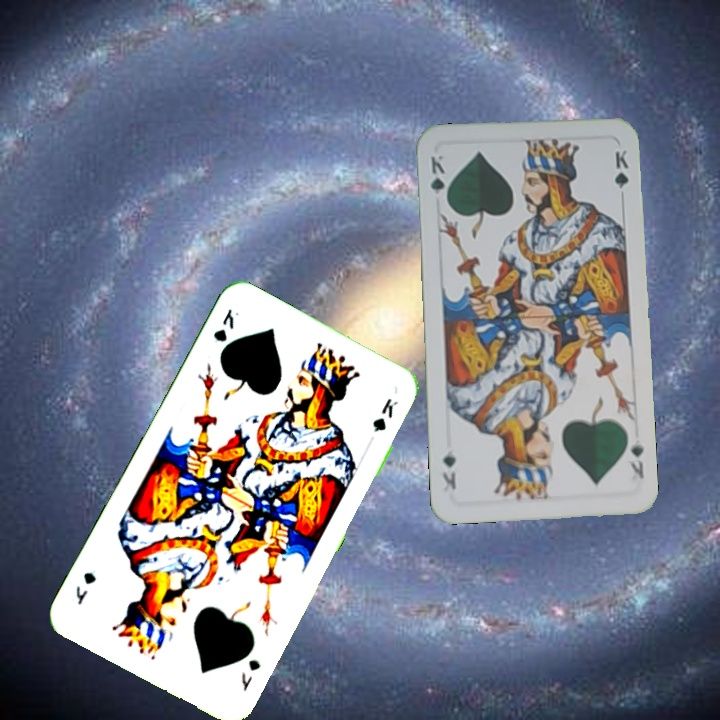GK: (426, 151, 450, 208), (209, 305, 242, 345), (237, 655, 264, 694), (624, 435, 646, 482)
